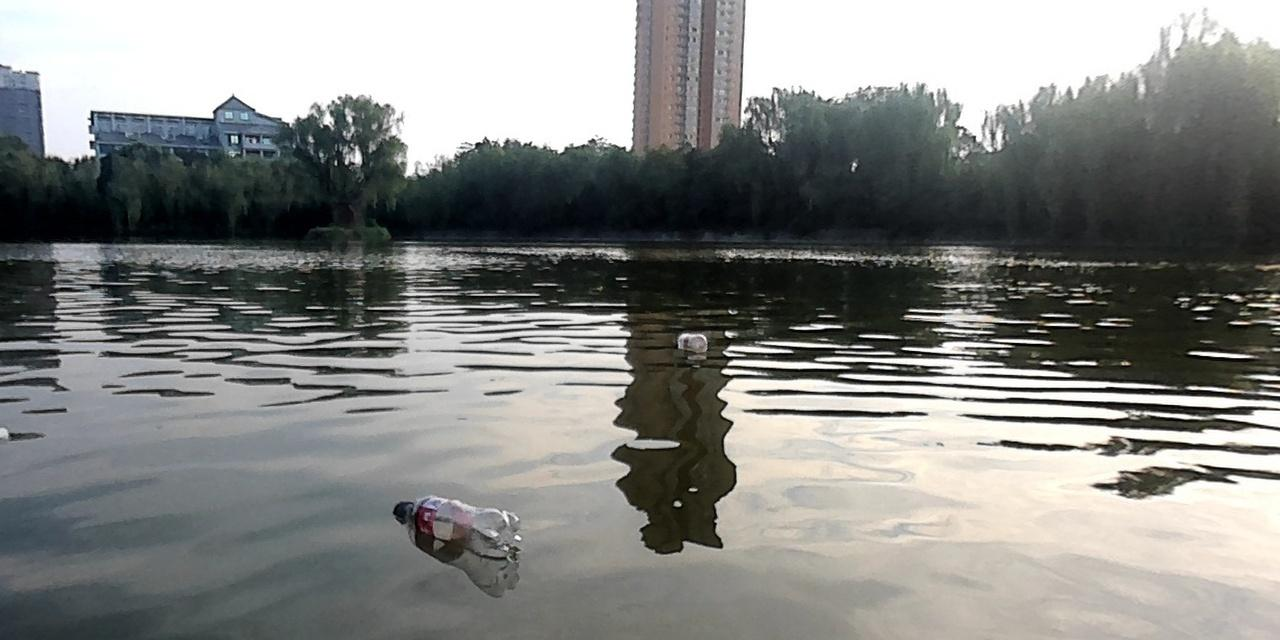bottle: (390, 494, 517, 556), (676, 332, 706, 353)
